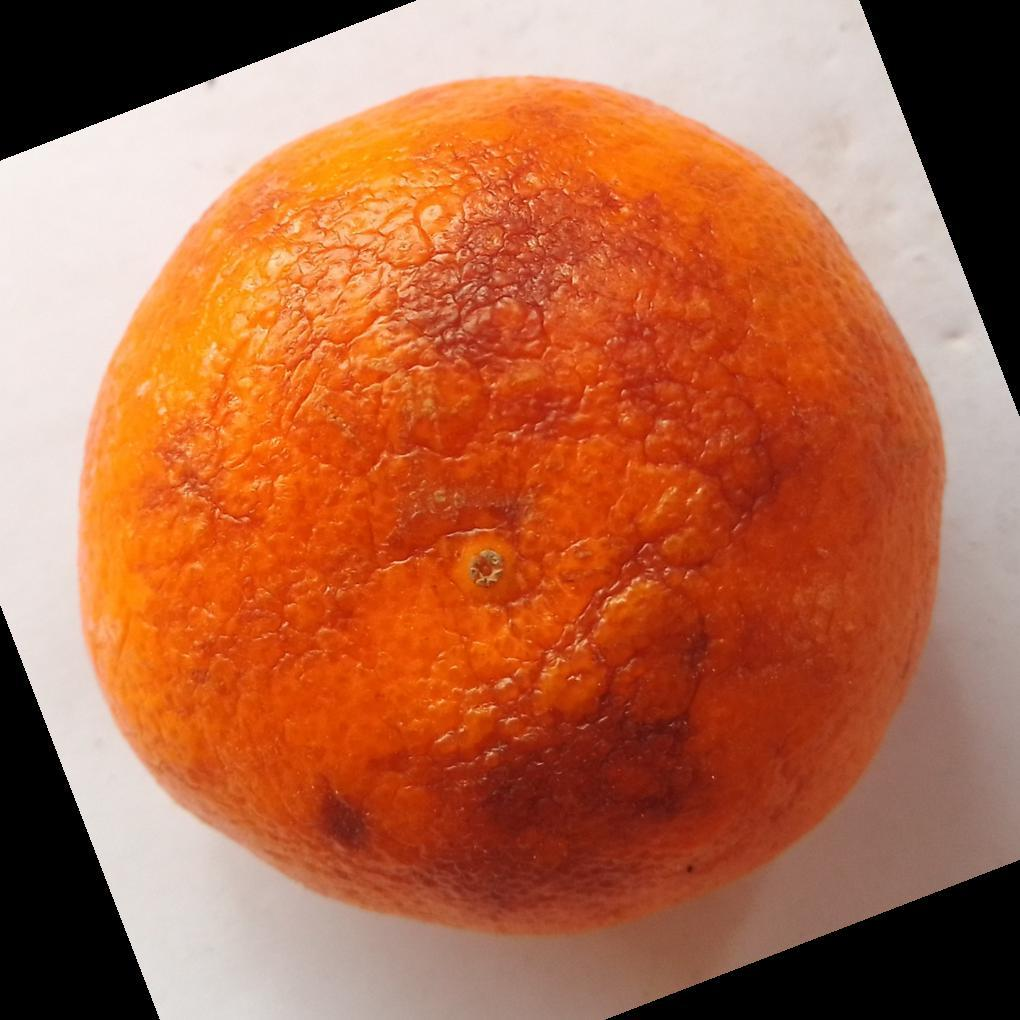FreshOrange: (75, 76, 949, 943)
